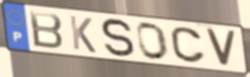B: (27, 10, 65, 51)
C: (169, 25, 208, 65)
K: (68, 14, 98, 55)
O: (136, 21, 171, 62)
S: (99, 17, 137, 59)
V: (204, 27, 239, 69)
